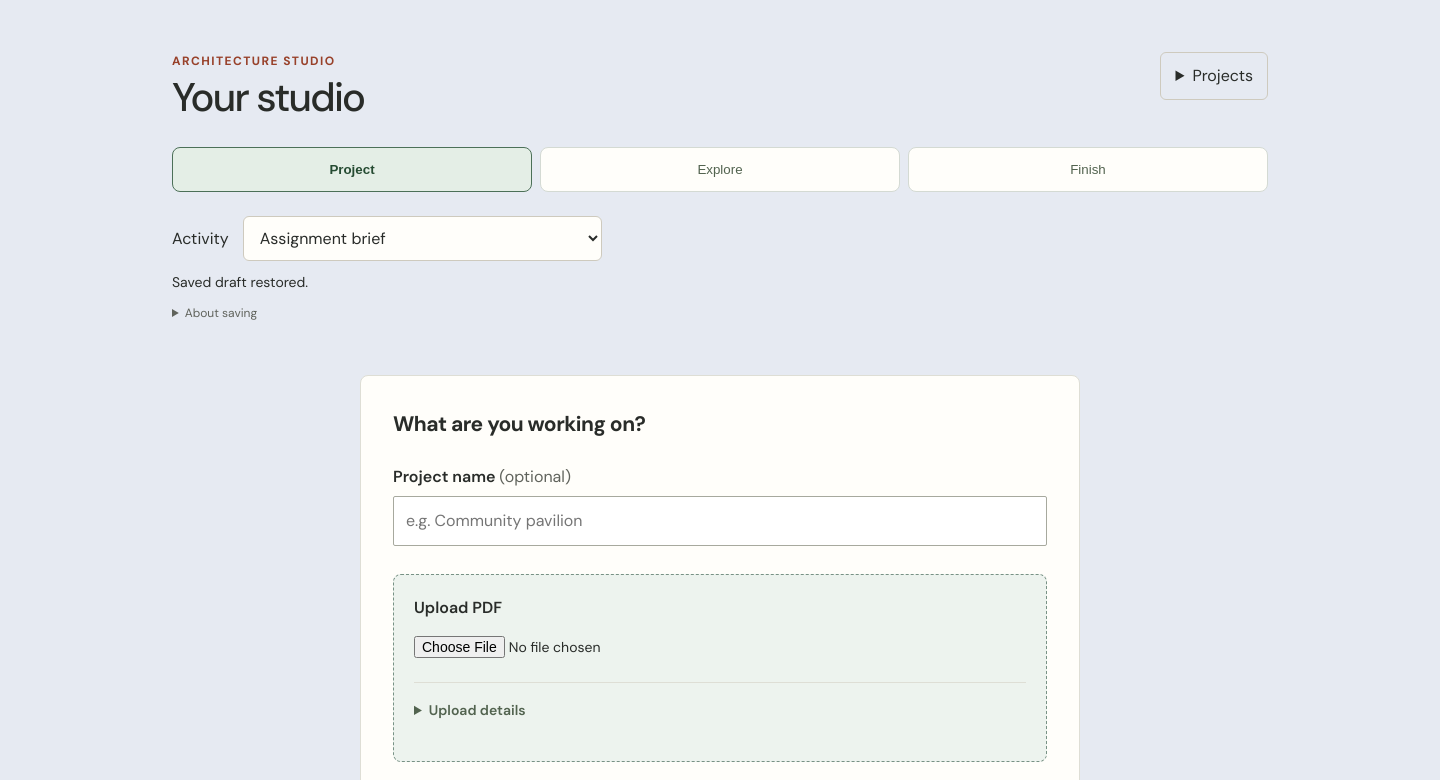
Test case: adds the preset without overwriting text, clears review and prevents duplicate application
Select "Review requirements" in the dropdown labelled "Activity" at (422, 238), box [243, 216, 602, 261]
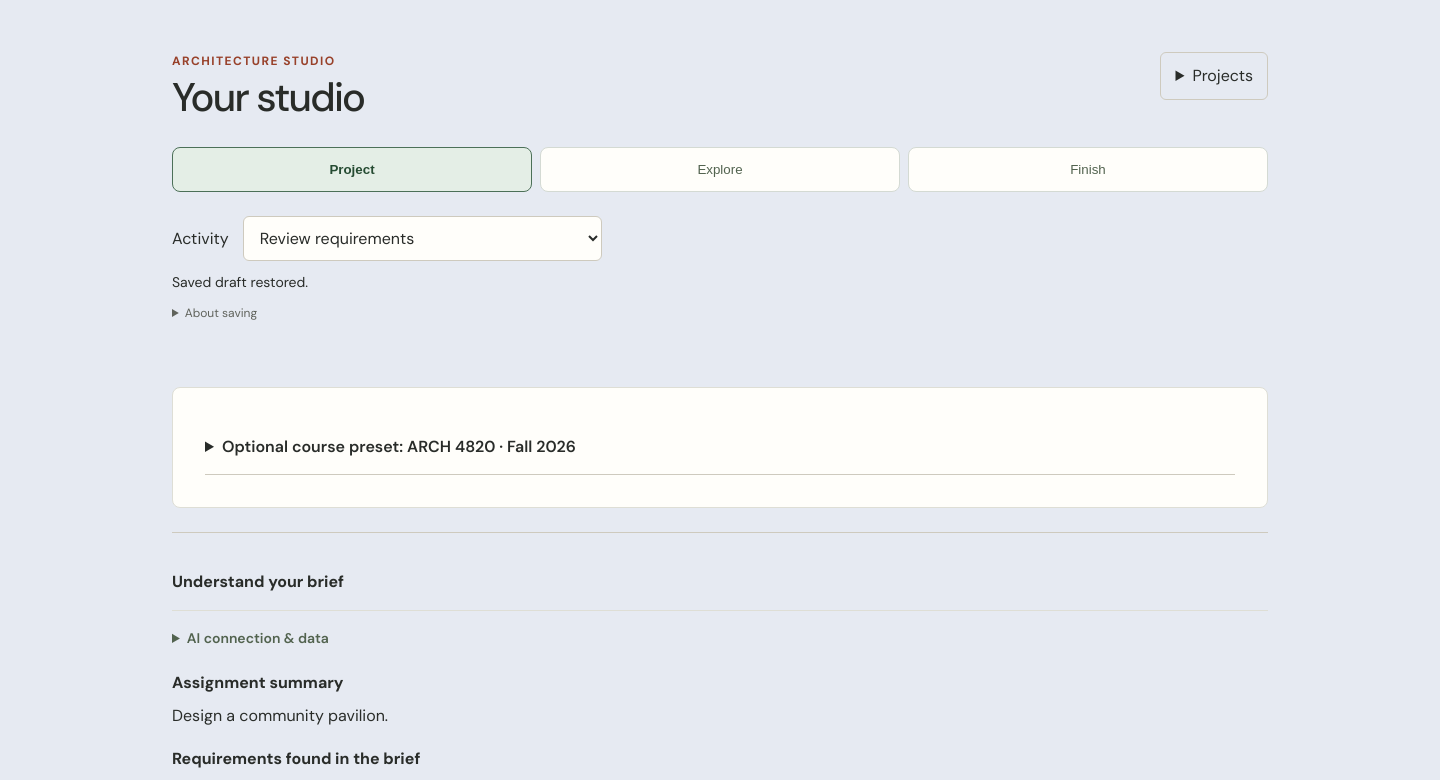
Click the heading "Optional course preset: ARCH 4820 · Fall 2026" at (399, 447), box [205, 420, 1235, 475]
(page scrolled)
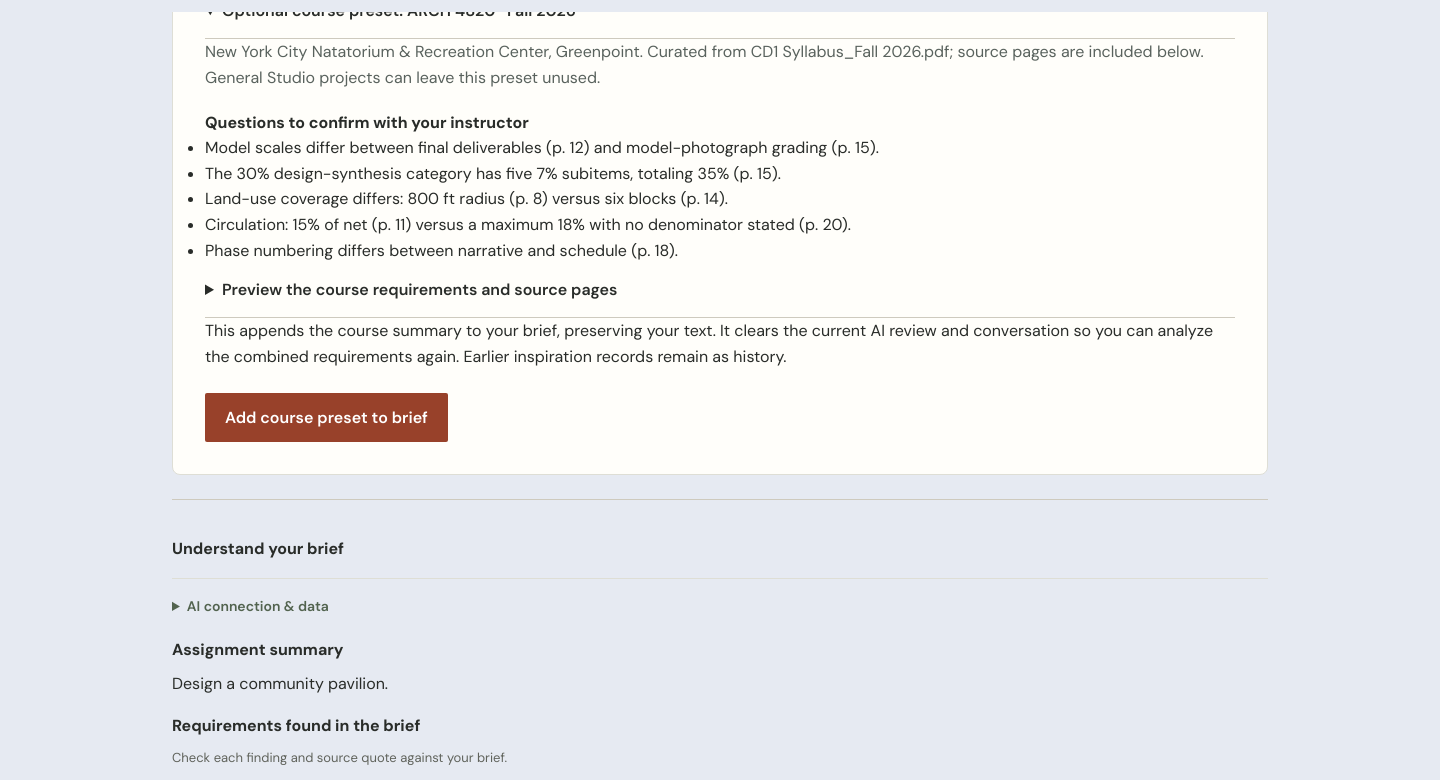
Click the button "Add course preset to brief" at (326, 417), box [205, 393, 448, 442]
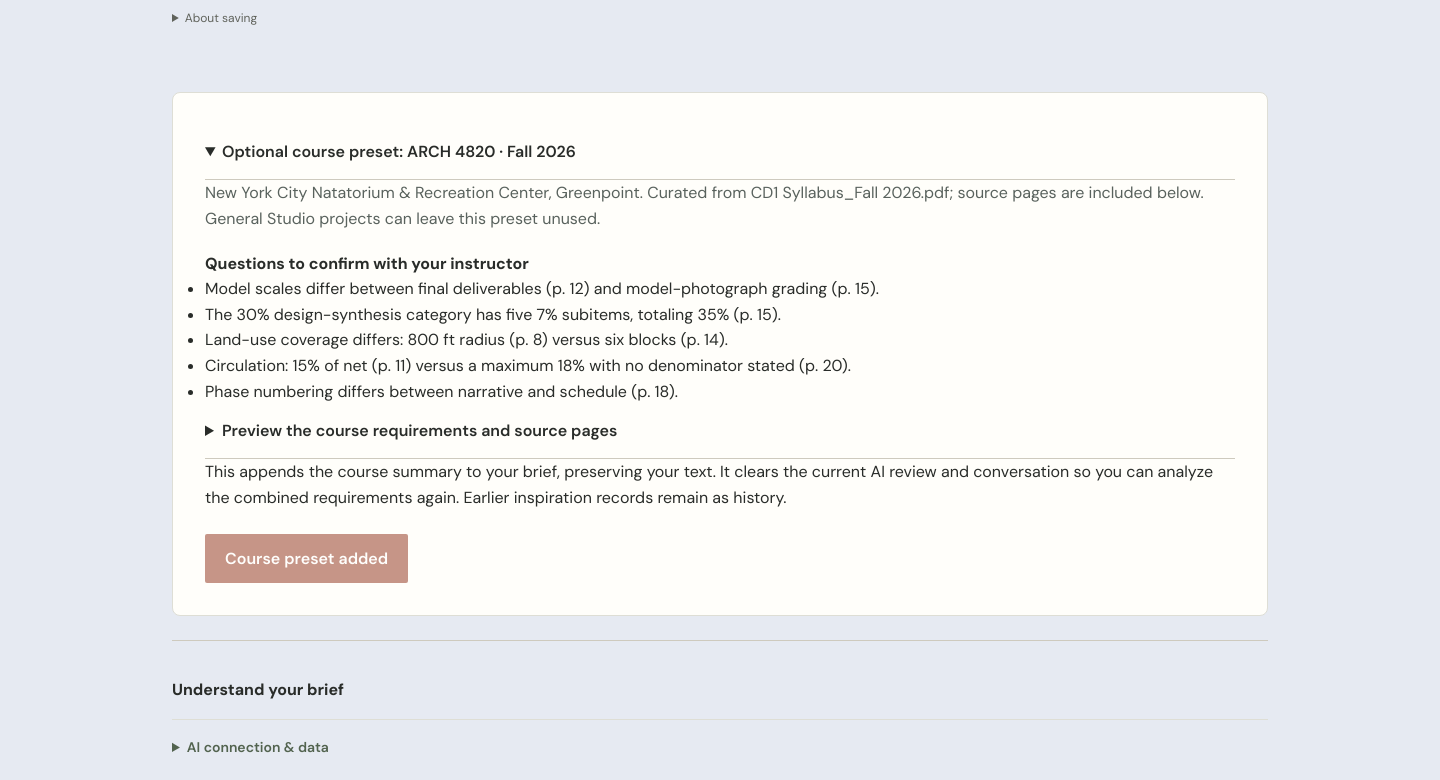
Expected: the button "Course preset added" is disabled, [205, 534, 408, 583]
